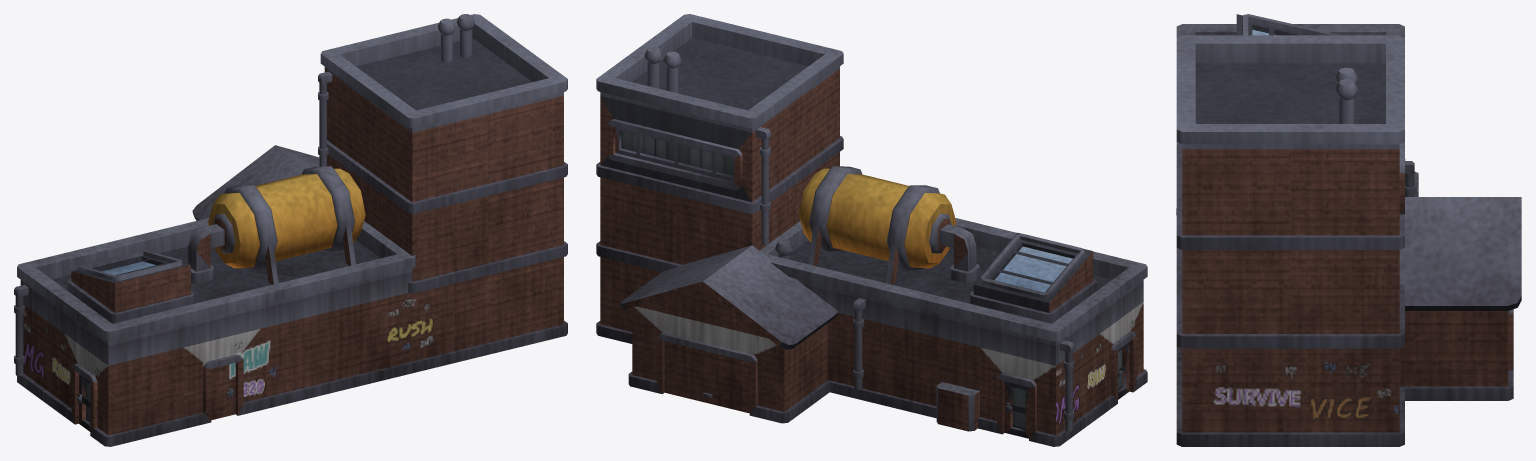
Rendered from building-r-brown-scuffed.glb.
3 views of the same model, side by side, from view 1: azimuth 30°, elevation 25°; view 2: azimuth 150°, elevation 25°; view 3: azimuth 270°, elevation 25° (orthographic). The views are drawn at different scales.
Parts seen in each view (by area): view 1: building-r; view 2: building-r; view 3: building-r.
Boxes of the visible parts, x1,y1,x2,y2 form: building-r: (14,14,567,446); building-r: (596,14,1147,446); building-r: (1176,14,1521,446).
Bounding box in the file's own units: 2.48 × 1.39 × 1.27.
Materials: 1 (1 with a texture image).
